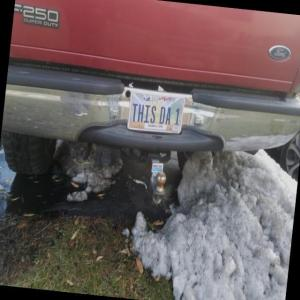Plate: (127, 91, 185, 134)
